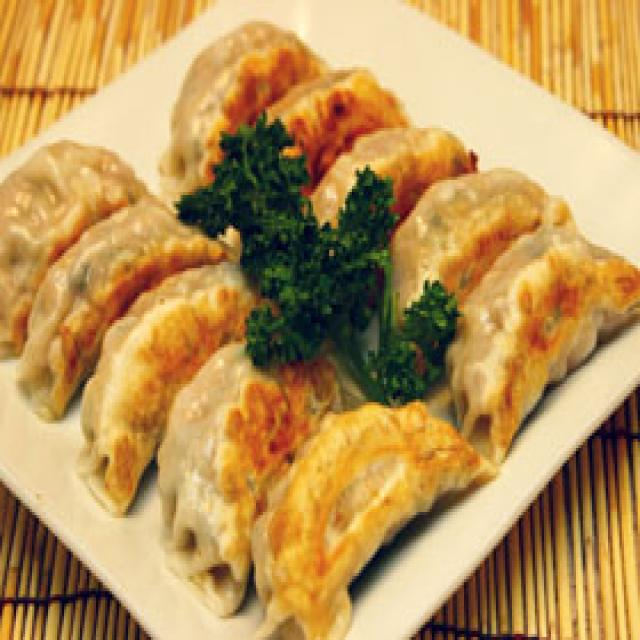带馅早点: (0, 45, 633, 612)
